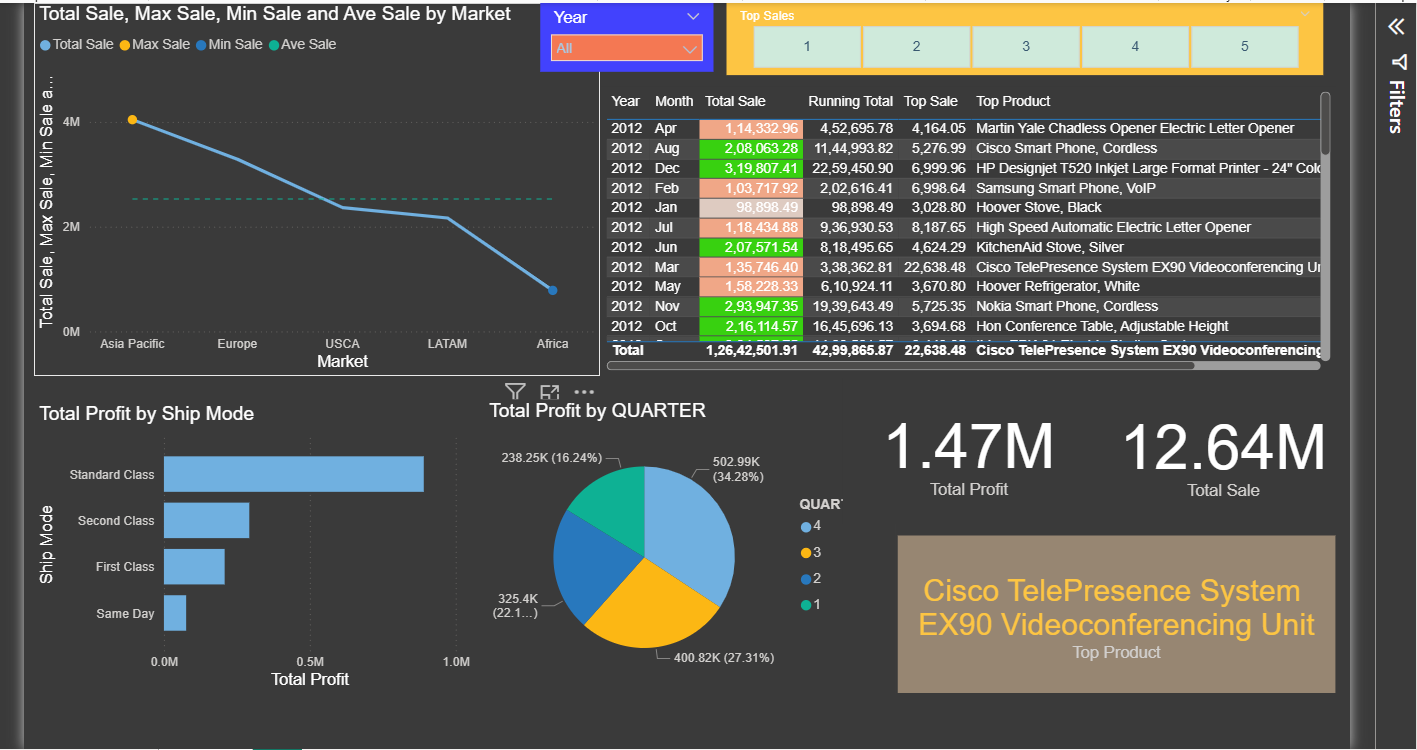

What the dashboard file says about the page in this screenshot:
{"tool":"powerbi","page":{"name":"Page 1","canvas":[1280,720],"ordinal":0},"visuals":[{"type":"lineChart","fields":{"Category":["Orders.Market"],"Y":["Measure.Total Sale","Measure.Max Sale","Measure.Min Sale","Measure.Ave Sale"]},"box":[9.5,0,546.4,359.5],"z":0},{"type":"slicer","fields":{"Values":["Calender.Year"]},"box":[498.4,0,166.8,66.1],"z":1000},{"type":"slicer","fields":{"Values":["Top Sales.Top Sales"]},"box":[677.9,0,576.1,69.3],"z":2000},{"type":"tableEx","fields":{"Values":["Calender.Year","Calender.Month","Measure.Total Sale","Measure.Running Total","Measure.Top Sale","Measure.Top Product"]},"box":[556,81,709.5,278.6],"z":3000},{"type":"clusteredBarChart","fields":{"Category":["Orders.Ship Mode"],"Y":["Measure.Total Profit"]},"box":[9.5,385.7,426.2,281],"z":4000},{"type":"pieChart","fields":{"Category":["Calender.QUARTER"],"Y":["Measure.Total Profit"]},"box":[444,382.1,397.6,284.5],"z":5000},{"type":"card","fields":{"Values":["Measure.Total Profit"]},"box":[790.5,361.9,244,140.5],"z":6000},{"type":"card","fields":{"Values":["Measure.Total Sale"]},"box":[1034.5,361.9,245.2,141.7],"z":7000},{"type":"card","fields":{"Values":["Measure.Top Product"]},"box":[842.9,514.3,422.6,152.4],"z":8000}]}

Visuals, with their boxes on the page's 1280x720 design canvas (x1, y1, x2, y2). These are canvas units, not pixel positions in the 1417x750 screenshot, which may show the page scaled, cropped or inside an application window:
lineChart - Orders.Market x Measure.Total Sale: left=10, top=0, right=556, bottom=360
slicer - Calender.Year: left=498, top=0, right=665, bottom=66
slicer - Top Sales.Top Sales: left=678, top=0, right=1254, bottom=69
tableEx - Calender.Year x Calender.Month: left=556, top=81, right=1266, bottom=360
clusteredBarChart - Orders.Ship Mode x Measure.Total Profit: left=10, top=386, right=436, bottom=667
pieChart - Calender.QUARTER x Measure.Total Profit: left=444, top=382, right=842, bottom=667
card - Measure.Total Profit: left=790, top=362, right=1034, bottom=502
card - Measure.Total Sale: left=1034, top=362, right=1280, bottom=504
card - Measure.Top Product: left=843, top=514, right=1266, bottom=667
